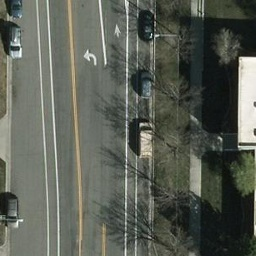car: (139, 121, 156, 160), (6, 22, 23, 58), (6, 195, 22, 230), (139, 10, 156, 41), (139, 68, 151, 99)
